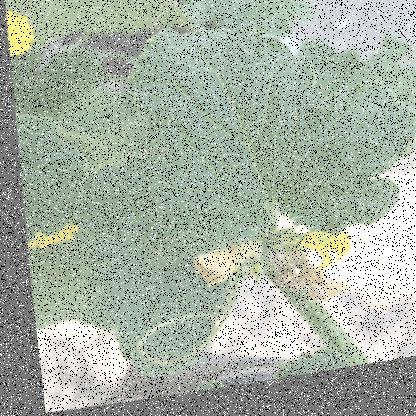Normal: (51, 0, 415, 275)
